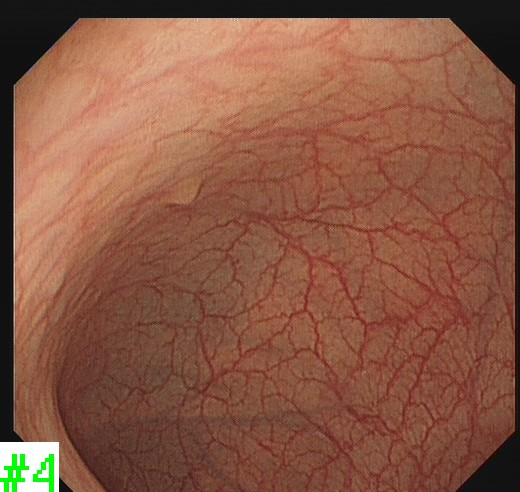others: (160, 173, 206, 207)
